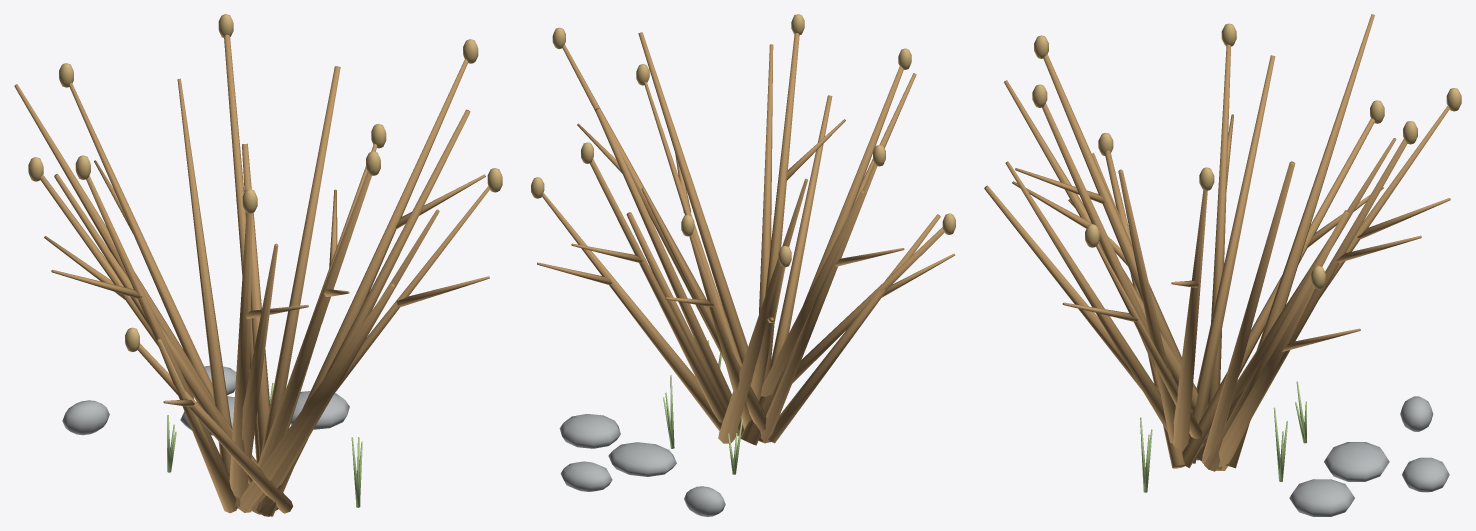
Rendered from dry_bush_d.glb.
The picture shows the model from 3 angles, left to right: view 1: azimuth 30°, elevation 25°; view 2: azimuth 150°, elevation 25°; view 3: azimuth 270°, elevation 25°; orthographic projection. The views are drawn at different scales.
Parts seen in each view (by area): view 1: dry_bush_d_stem_1, dry_bush_d_stem_5, dry_bush_d_stem_0, dry_bush_d_stem_16, dry_bush_d_stem_14, dry_bush_d_stem_15, dry_bush_d_stem_6, dry_bush_d_stem_19, dry_bush_d_stem_7, dry_bush_d_stem_9, dry_bush_d_stem_13, dry_bush_d_stem_12 (+12 smaller); view 2: dry_bush_d_stem_19, dry_bush_d_stem_1, dry_bush_d_stem_2, dry_bush_d_stem_7, dry_bush_d_stem_10, dry_bush_d_stem_4, dry_bush_d_stem_11, dry_bush_d_stem_15, dry_bush_d_stem_16, dry_bush_d_stem_9, dry_bush_d_stem_14, dry_bush_d_stem_17 (+12 smaller); view 3: dry_bush_d_stem_9, dry_bush_d_stem_7, dry_bush_d_stem_1, dry_bush_d_stem_0, dry_bush_d_stem_14, dry_bush_d_stem_17, dry_bush_d_stem_8, dry_bush_d_stem_10, dry_bush_d_stem_2, dry_bush_d_stem_19, dry_bush_d_stem_16, dry_bush_d_stem_3 (+12 smaller).
Part boxes in pixels (box(x1,y1,x2,y2)): dry_bush_d_stem_1: box(260, 66, 340, 456); dry_bush_d_stem_5: box(177, 78, 240, 506); dry_bush_d_stem_0: box(256, 59, 467, 516); dry_bush_d_stem_16: box(257, 171, 371, 468); dry_bush_d_stem_14: box(229, 213, 252, 508); dry_bush_d_stem_15: box(238, 283, 395, 512); dry_bush_d_stem_6: box(69, 82, 248, 485); dry_bush_d_stem_19: box(255, 109, 470, 516); dry_bush_d_stem_7: box(14, 84, 215, 404); dry_bush_d_stem_9: box(54, 174, 252, 484); dry_bush_d_stem_13: box(242, 243, 278, 484); dry_bush_d_stem_12: box(137, 343, 293, 513); dry_bush_d_stem_19: box(638, 32, 754, 382); dry_bush_d_stem_1: box(595, 108, 743, 435); dry_bush_d_stem_2: box(542, 193, 739, 437); dry_bush_d_stem_7: box(718, 178, 807, 443); dry_bush_d_stem_10: box(759, 163, 877, 443); dry_bush_d_stem_4: box(590, 159, 725, 422); dry_bush_d_stem_11: box(768, 214, 940, 443); dry_bush_d_stem_15: box(770, 95, 832, 368); dry_bush_d_stem_16: box(762, 33, 799, 384); dry_bush_d_stem_9: box(760, 190, 864, 396); dry_bush_d_stem_14: box(758, 66, 903, 441); dry_bush_d_stem_17: box(759, 44, 773, 313); dry_bush_d_stem_9: box(1189, 55, 1275, 463); dry_bush_d_stem_7: box(1226, 14, 1374, 468); dry_bush_d_stem_1: box(1202, 161, 1295, 463); dry_bush_d_stem_0: box(1172, 190, 1207, 451); dry_bush_d_stem_14: box(1043, 54, 1181, 364); dry_bush_d_stem_17: box(1005, 161, 1167, 432); dry_bush_d_stem_8: box(1182, 118, 1374, 468); dry_bush_d_stem_10: box(1207, 44, 1230, 405); dry_bush_d_stem_2: box(1217, 284, 1314, 470); dry_bush_d_stem_19: box(1118, 169, 1175, 443); dry_bush_d_stem_16: box(1042, 103, 1198, 460); dry_bush_d_stem_3: box(1204, 210, 1349, 471).
Size of the model in its own units: 0.8706 by 0.836 by 0.911.
